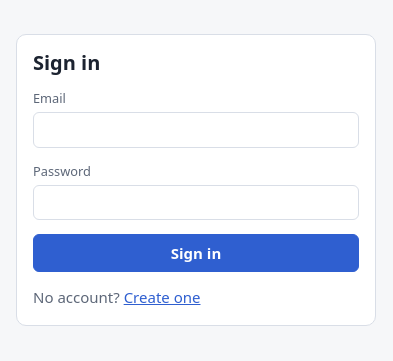
Test case: auth flow › shows a friendly message for wrong credentials
Step 1. Type "me@example.com" into the field labelled "Email" → (196, 130), box [33,112,359,148]
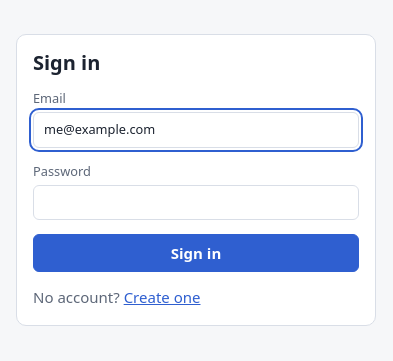
Step 2. Type "password123" into the password field labelled "Password" → (196, 202), box [33,185,359,220]
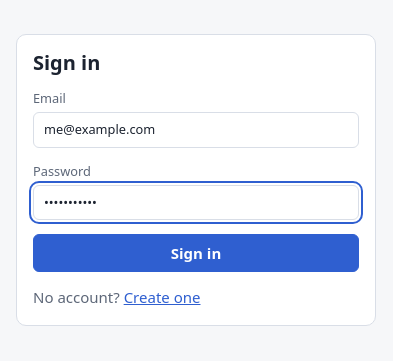
Step 3. Click the button "Sign in" → (196, 253), box [33,234,359,272]
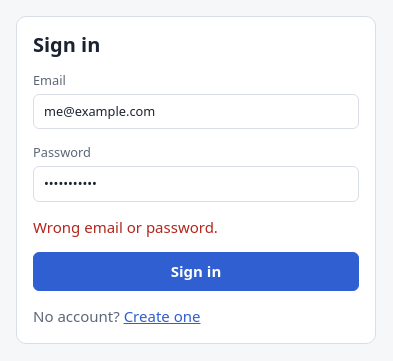
Expected: the heading "Sign in" is shown, [33,31,100,58]
Expected: the message reads "Wrong email or password.", [33,217,218,237]
